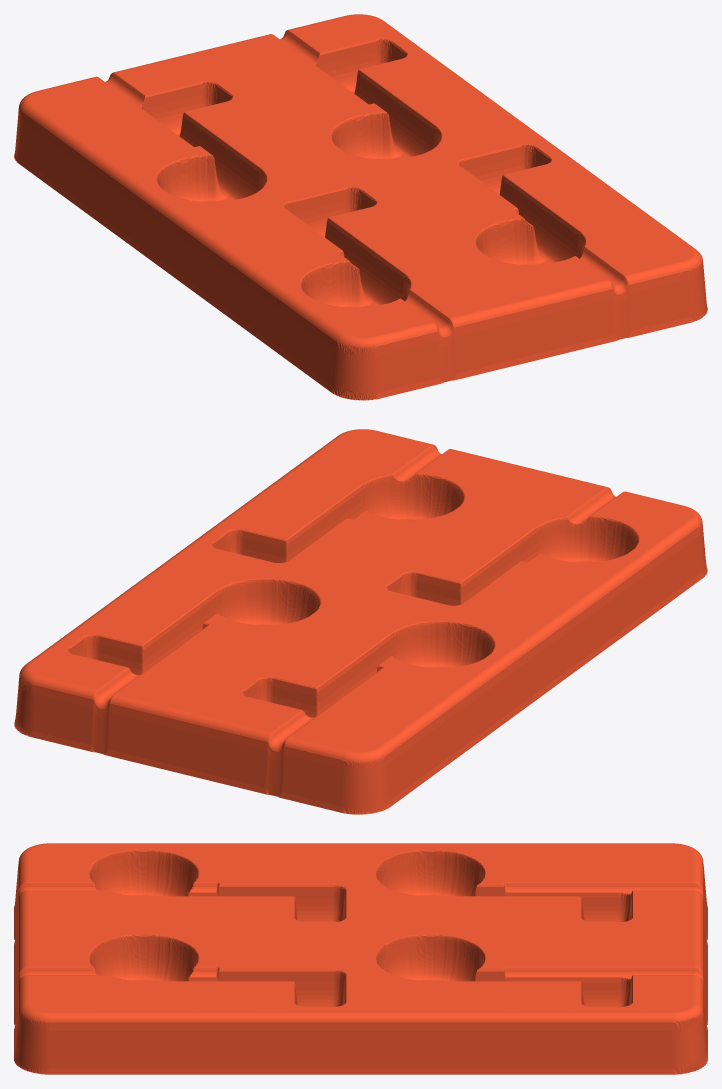
File: mold.glb
3 renders of one model, top to bottom at view 1: azimuth 30°, elevation 25°; view 2: azimuth 150°, elevation 25°; view 3: azimuth 270°, elevation 25°, orthographic.
Visible parts, largest first — view 1: geometry_0; view 2: geometry_0; view 3: geometry_0.
Boxes of the visible parts, x1=… form: geometry_0: x1=14, y1=14, x2=707, y2=400; geometry_0: x1=14, y1=429, x2=707, y2=814; geometry_0: x1=14, y1=843, x2=707, y2=1074.
Bounding box in the file's own units: 0.1066 × 0.0155 × 0.1735.
